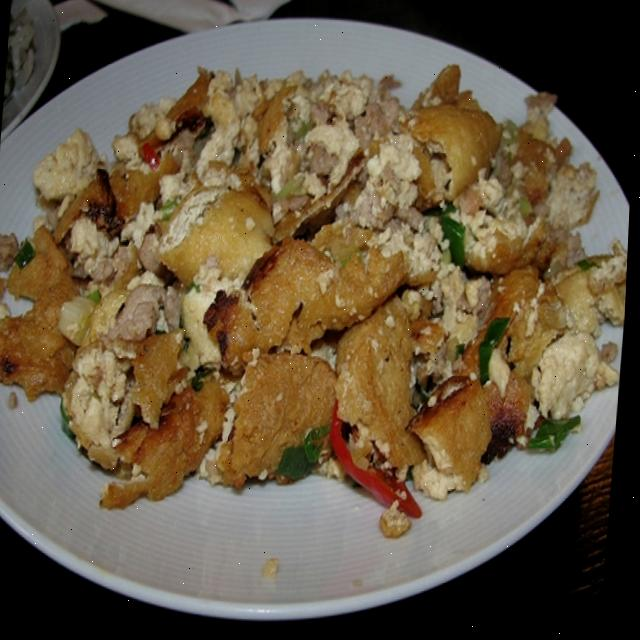豆腐料理: (0, 10, 639, 620)
